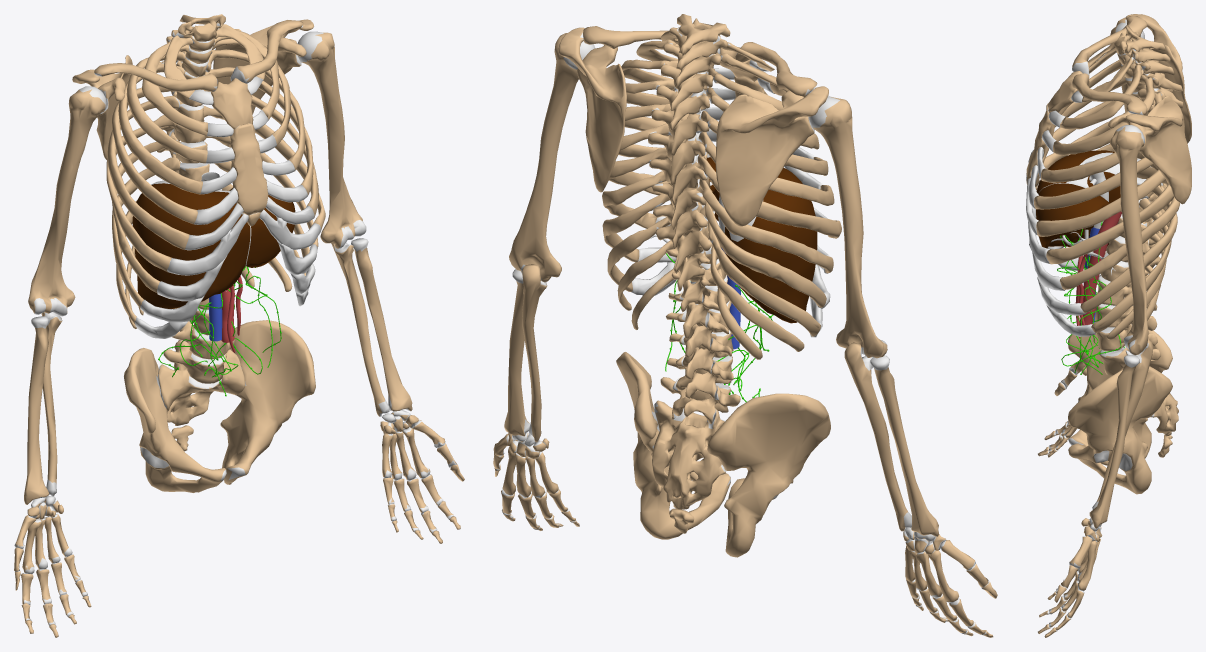
Rendered from Liver.fbx.
3 views of the same model, side by side, from view 1: azimuth 30°, elevation 25°; view 2: azimuth 150°, elevation 25°; view 3: azimuth 270°, elevation 25° (orthographic). The views are drawn at different scales.
Visible parts, largest first — view 1: Body of sternum, Liver, BezierCurve, Splenic artery.002; view 2: Body of sternum, Liver, BezierCurve; view 3: Body of sternum, Liver, Splenic artery.002, BezierCurve.
Boxes of the visible parts, x1,y1,x2,y2 form: Body of sternum: (14,14,464,637); Liver: (132,180,295,308); BezierCurve: (158,266,281,396); Splenic artery.002: (221,276,242,352); Body of sternum: (493,14,997,637); Liver: (706,157,817,323); BezierCurve: (665,253,773,402); Body of sternum: (1026,14,1191,637); Liver: (1036,150,1120,250); Splenic artery.002: (1075,211,1121,338); BezierCurve: (1057,221,1124,374).
Bounding box in the file's own units: 66.94 × 76.68 × 22.57.
